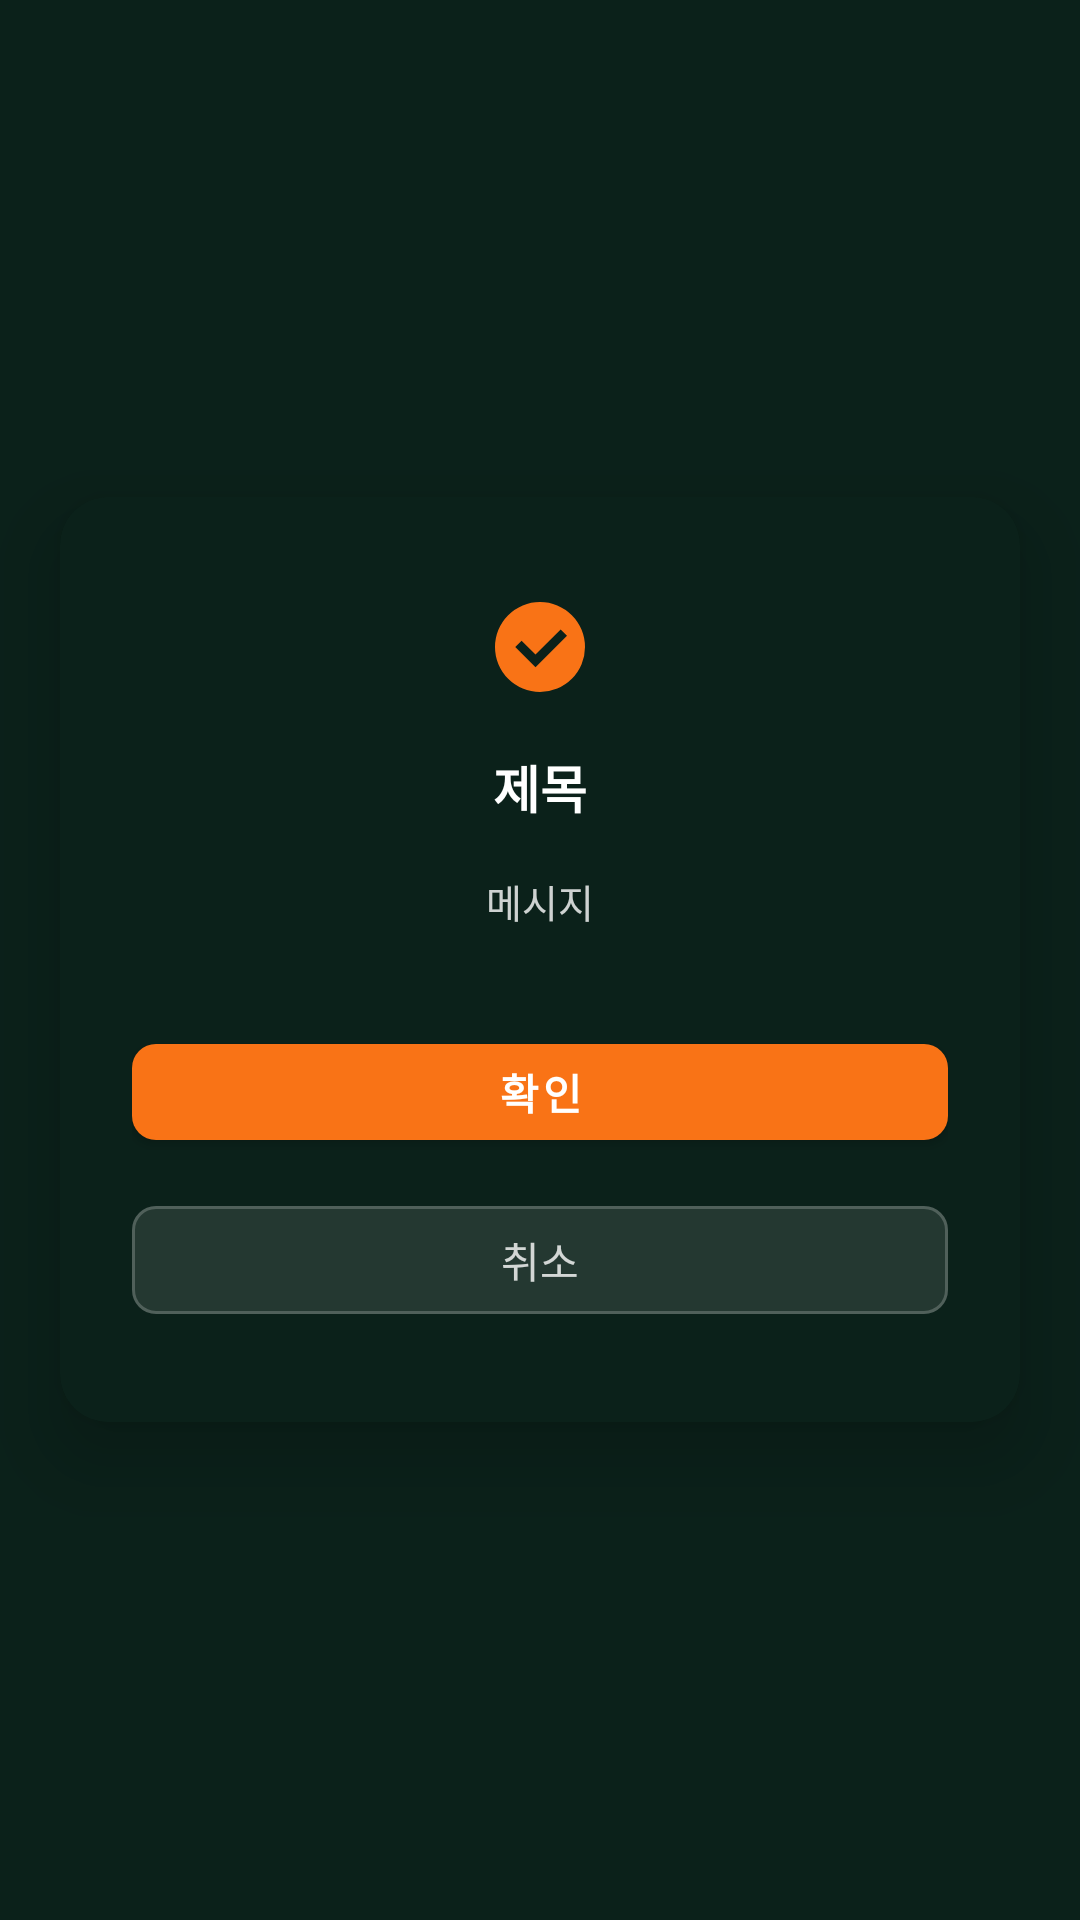

Where icons sit on this 1080px x 1920px app screen, as bbox=(x1, y1, x2, y2):
check circle: bbox=(495, 602, 585, 692)
